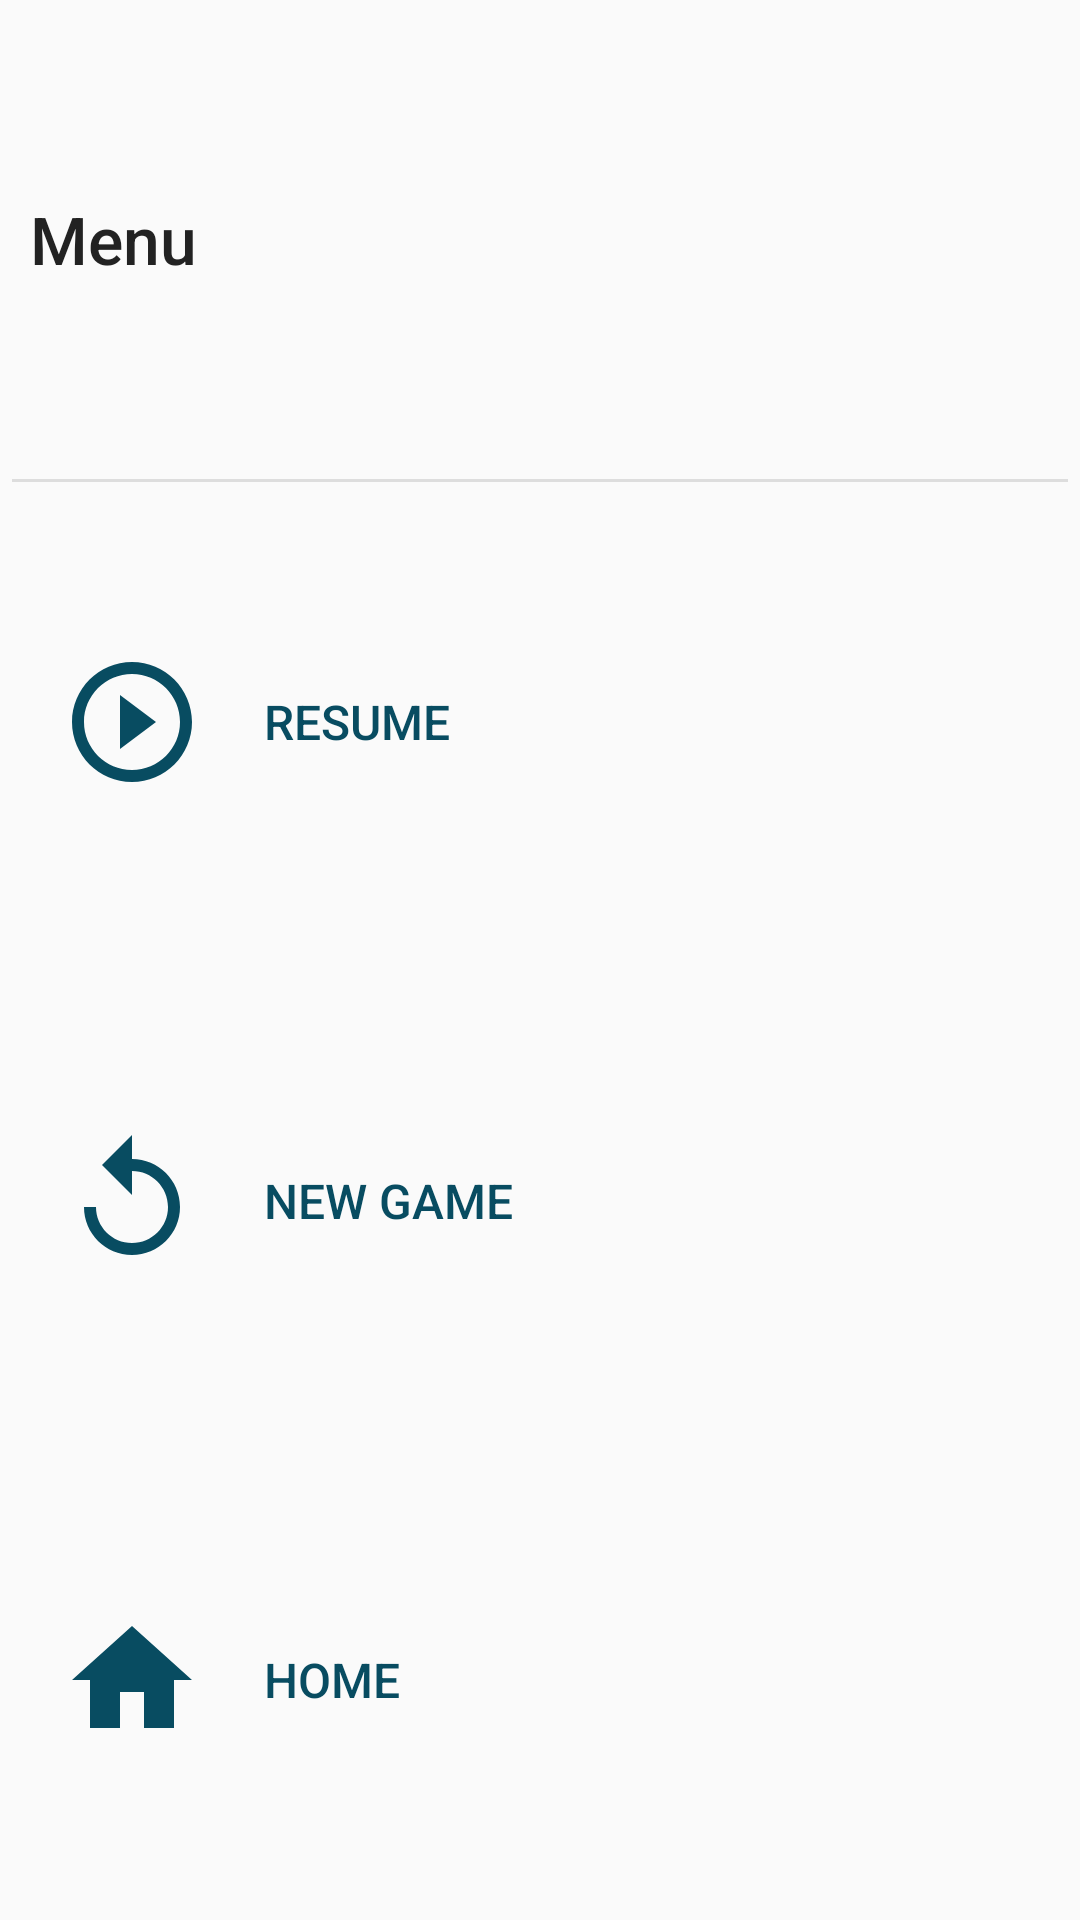

Named icons in this screenshot (1080 × 1920) and their bounding boxes, (x1, y1, x2, y2):
pause popup play: (72, 662, 192, 782)
pause popup replay: (84, 1135, 180, 1255)
